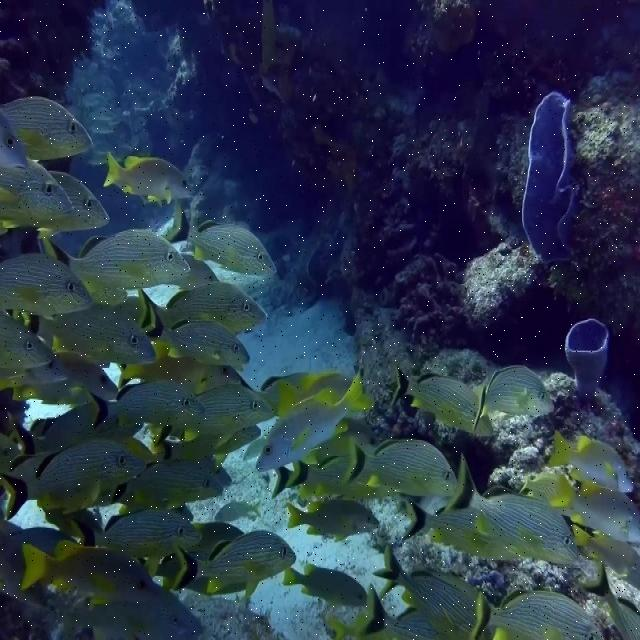fish: (445, 452, 583, 569), (0, 393, 156, 481), (256, 369, 375, 473), (0, 441, 145, 521), (41, 228, 187, 302), (372, 543, 478, 639), (161, 198, 278, 277), (19, 539, 157, 603), (166, 531, 294, 599), (73, 510, 200, 578), (25, 302, 155, 366), (271, 435, 391, 504), (339, 433, 459, 496), (155, 425, 271, 487), (400, 496, 513, 559), (137, 306, 252, 366), (471, 589, 603, 639), (65, 591, 202, 639), (546, 422, 634, 494), (147, 282, 268, 334), (387, 360, 477, 428), (3, 95, 91, 162), (96, 374, 205, 427), (472, 363, 553, 433), (1, 257, 93, 317), (555, 475, 639, 540), (115, 459, 224, 509), (0, 360, 119, 405), (103, 151, 195, 209), (183, 384, 276, 438), (0, 161, 68, 228), (578, 566, 639, 639), (284, 498, 379, 544), (46, 170, 111, 235), (356, 585, 434, 638), (574, 527, 639, 589), (0, 314, 56, 380), (282, 564, 368, 604), (262, 373, 353, 409), (217, 500, 261, 521)
reefs: (522, 93, 579, 261), (565, 319, 610, 413)
